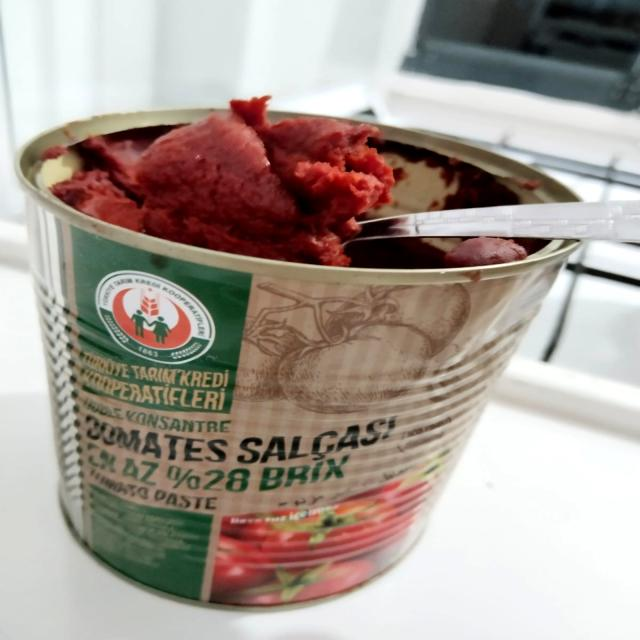tomato paste: (99, 75, 429, 317)
